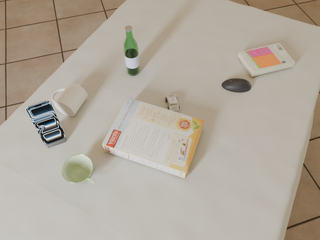book: (238, 43, 295, 78)
bottle: (124, 26, 140, 76)
box: (102, 98, 204, 178)
cup: (52, 83, 87, 116), (62, 154, 95, 184)
mouse: (222, 78, 251, 92)
phone: (26, 100, 66, 145)
toy_car: (165, 94, 179, 113)
